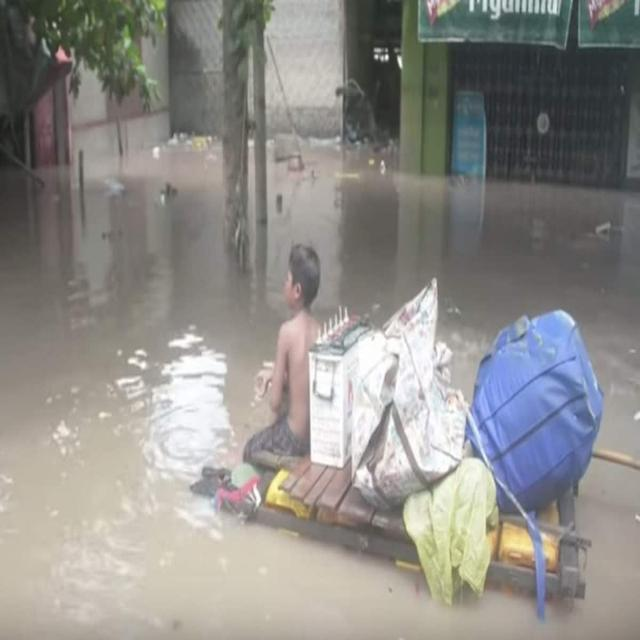Person-RiskLevel3: (232, 236, 336, 483)
